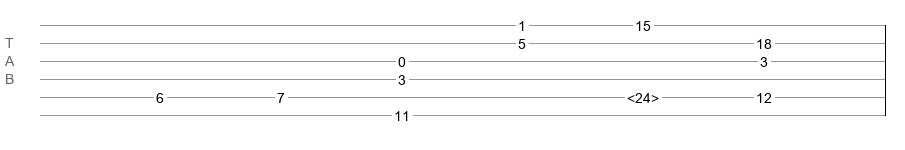0: (398, 54, 406, 64)
1: (518, 18, 526, 28)
11: (394, 108, 410, 118)
12: (756, 90, 772, 100)
15: (635, 18, 651, 28)
18: (756, 36, 772, 46)
3: (398, 72, 406, 82), (760, 54, 768, 64)
5: (518, 36, 526, 46)
6: (156, 90, 164, 100)
7: (277, 90, 285, 100)
harmonic: (627, 90, 659, 100)
